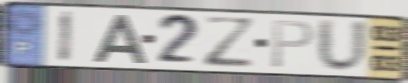2: (155, 12, 203, 70)
A: (91, 13, 149, 65)
I: (57, 9, 76, 65)
P: (270, 19, 316, 70)
U: (316, 17, 371, 75)
Z: (203, 15, 259, 69)
